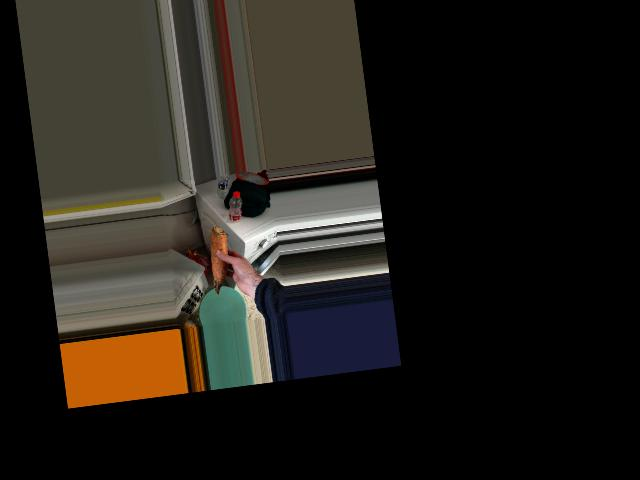sweet_potato: (206, 223, 235, 293)
